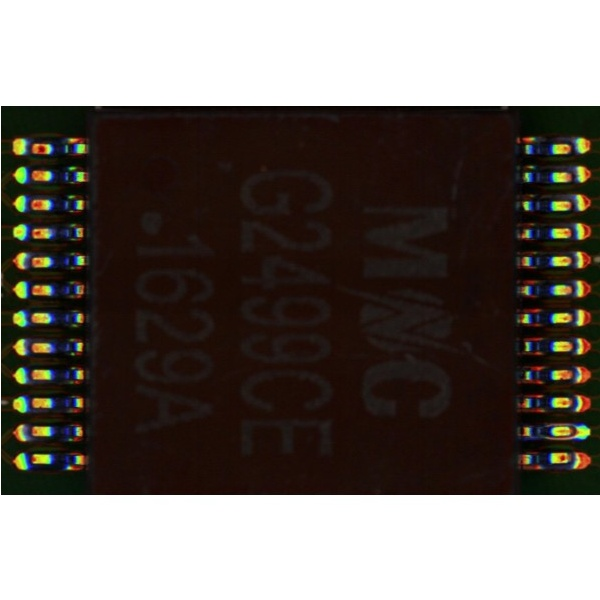Bad_qiaojiao: (540, 435, 575, 440), (543, 422, 575, 426)
